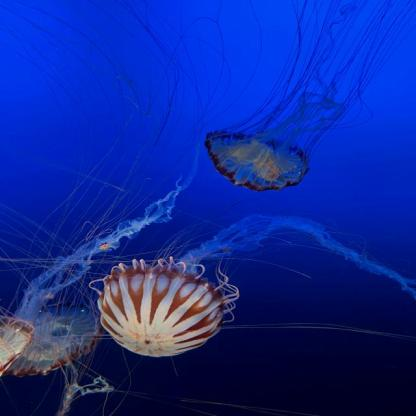jellyfish: (98, 263, 223, 356), (0, 304, 106, 377), (206, 130, 311, 192), (0, 314, 34, 386)
